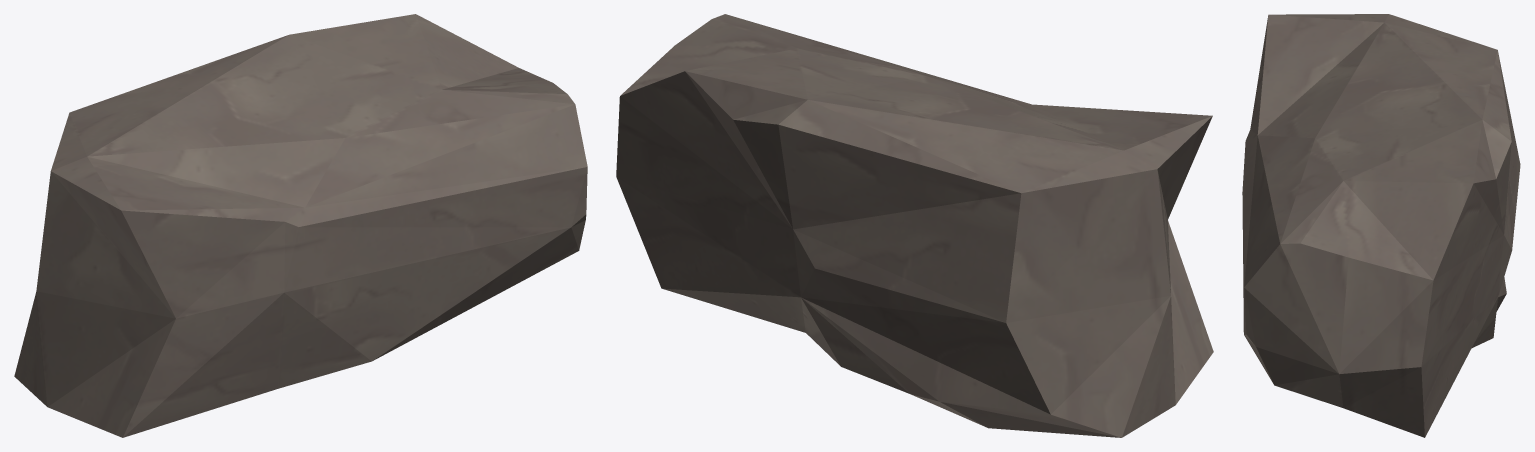
The model's file is rock-01.obj.
3 renders of one model, left to right at view 1: azimuth 30°, elevation 25°; view 2: azimuth 150°, elevation 25°; view 3: azimuth 270°, elevation 25°, orthographic. The views are drawn at different scales.
Visible parts, largest first — view 1: rock-01_Circle.030; view 2: rock-01_Circle.030; view 3: rock-01_Circle.030.
Boxes of the visible parts, x1,y1,x2,y2 form: rock-01_Circle.030: [14, 14, 587, 437]; rock-01_Circle.030: [616, 14, 1213, 437]; rock-01_Circle.030: [1242, 14, 1520, 437].
Size of the model in its own units: 6.25 by 3.14 by 2.94.
